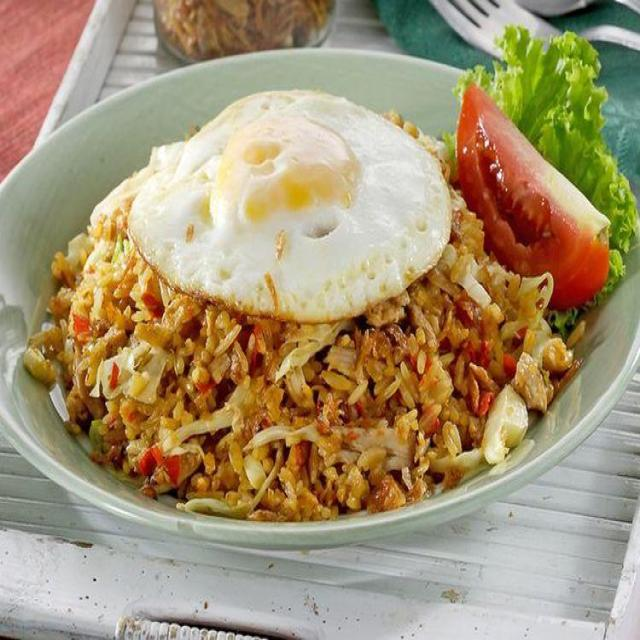Nasi Goreng: (47, 158, 559, 505)
